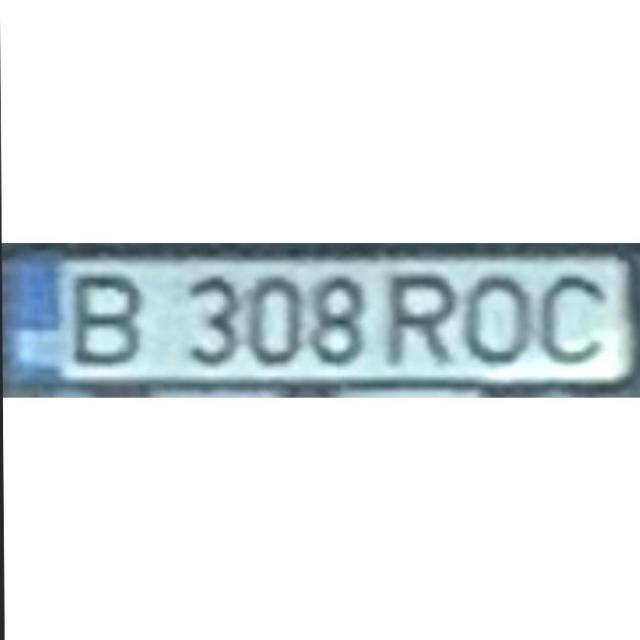license-plates: (3, 246, 640, 394)
